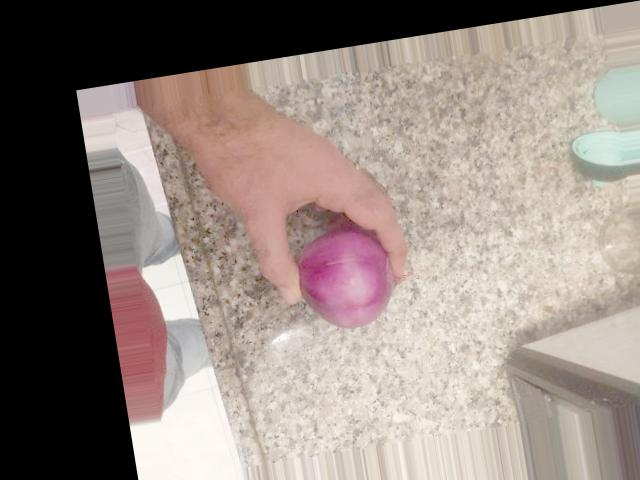onion: (272, 223, 416, 343)
